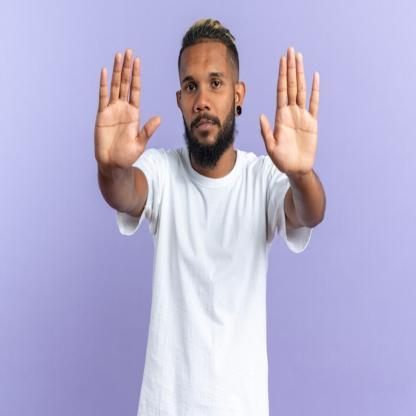stop: (94, 43, 162, 170), (256, 46, 320, 178)
